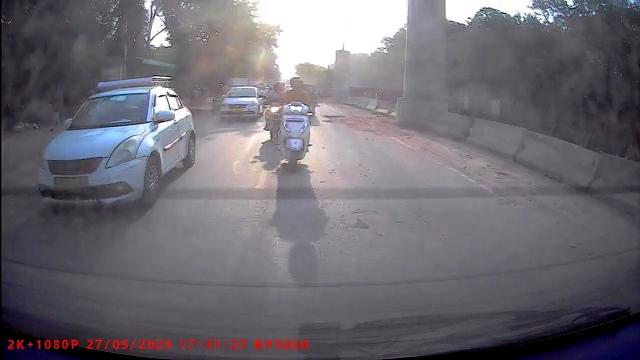motorcycle_with_helmet: (276, 77, 315, 166), (266, 78, 282, 142)
